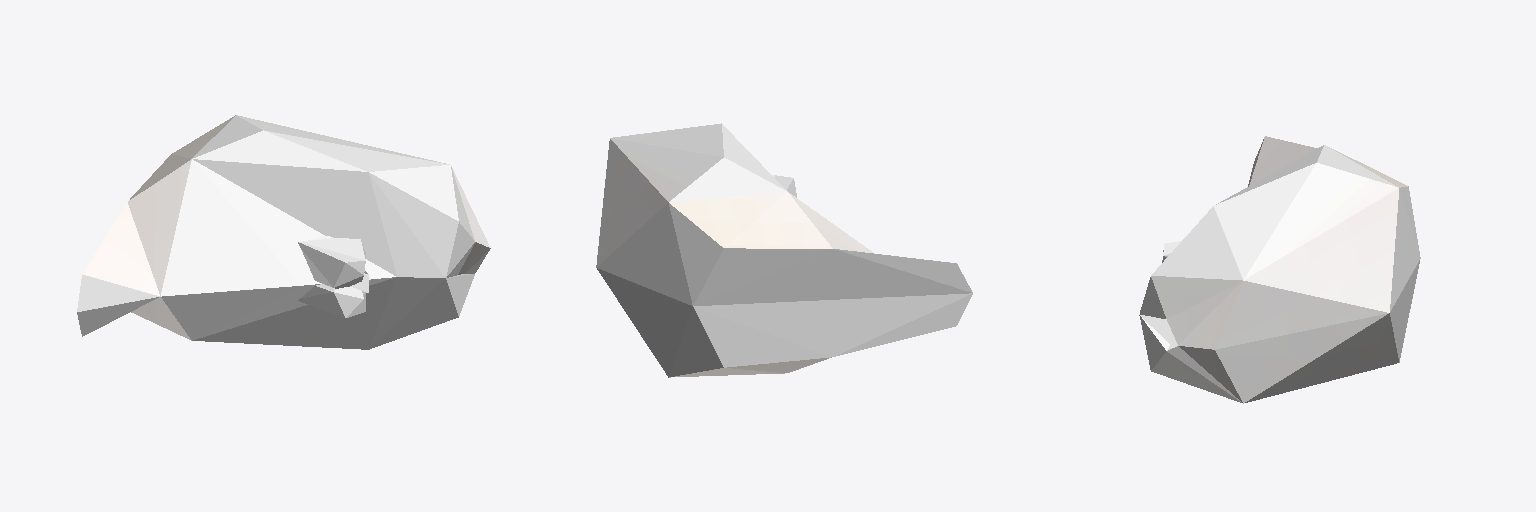
3 views of the same model, side by side, from view 1: azimuth 30°, elevation 25°; view 2: azimuth 150°, elevation 25°; view 3: azimuth 270°, elevation 25° (orthographic).
Visible parts, largest first — view 1: goosebody_goosebodymesh, gooseleg_r_gooseleg_rmesh, gooseleg_l_gooseleg_lmesh; view 2: goosebody_goosebodymesh; view 3: goosebody_goosebodymesh.
Part boxes in pixels (x1,y1,x2,y2): goosebody_goosebodymesh: (77,115,490,349); gooseleg_r_gooseleg_rmesh: (298,237,365,288); gooseleg_l_gooseleg_lmesh: (298,236,365,317); goosebody_goosebodymesh: (596,123,972,377); goosebody_goosebodymesh: (1139,136,1420,403).
Size of the model in its own units: 2.47 by 1.3 by 1.57.
Materials: 2 (1 with a texture image).